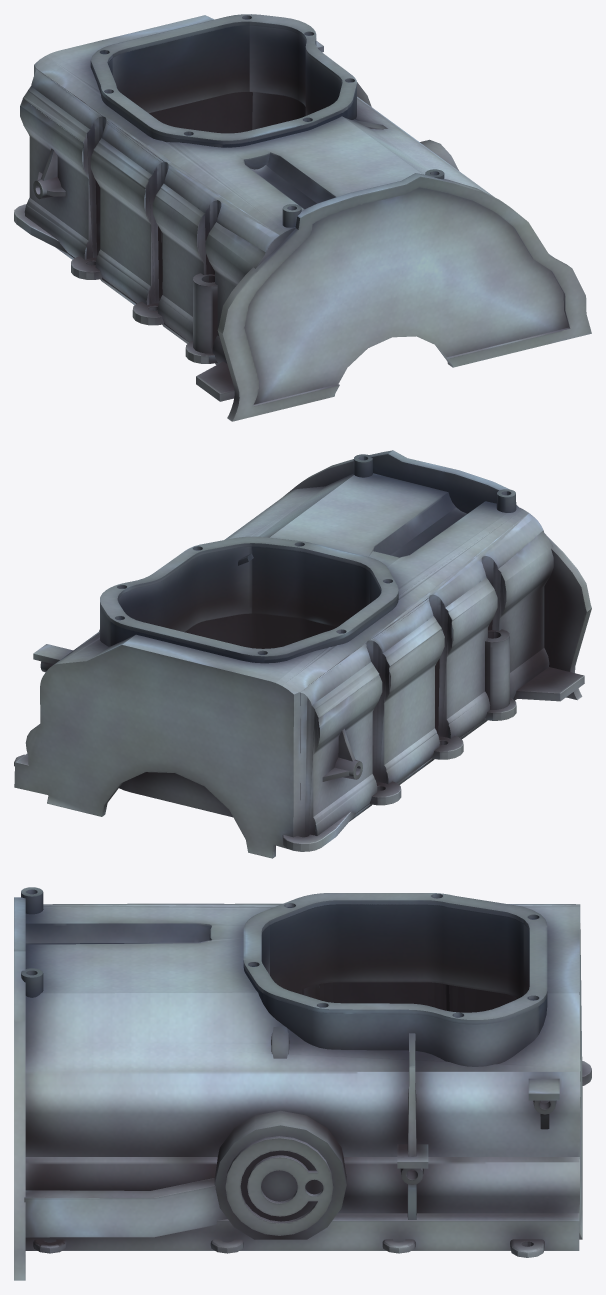
The model's file is CARTER.fbx.
3 renders of one model, top to bottom at view 1: azimuth 30°, elevation 25°; view 2: azimuth 150°, elevation 25°; view 3: azimuth 270°, elevation 25°, orthographic. The views are drawn at different scales.
Visible parts, largest first — view 1: CARTER_SUPERIOR; view 2: CARTER_SUPERIOR; view 3: CARTER_SUPERIOR.
Part boxes in pixels (x1,y1,x2,y2): CARTER_SUPERIOR: (14,14,591,421); CARTER_SUPERIOR: (14,450,591,858); CARTER_SUPERIOR: (14,887,591,1280).
Bounding box in the file's own units: 16.57 × 8.54 × 19.27.
1 material, 1 textured.
